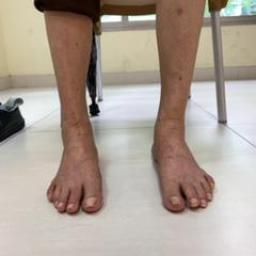Front View -Both Feet-: (31, 96, 231, 233)
